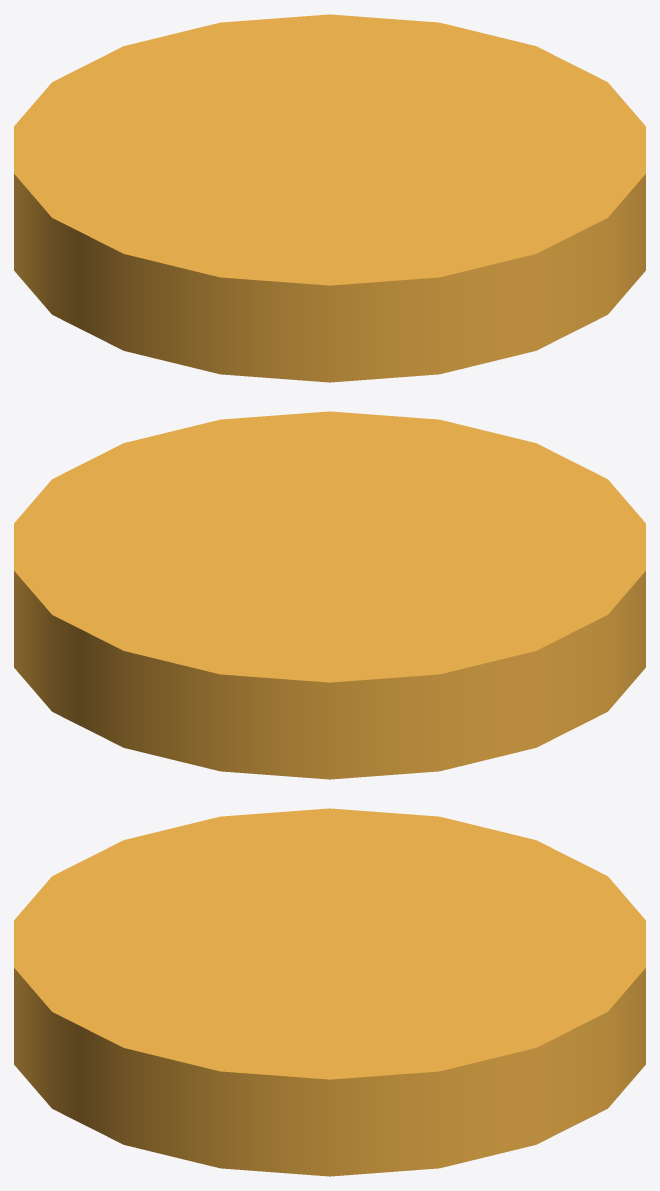
The model's file is Single Gold Coin 001.FBX.
The picture shows the model from 3 angles, top to bottom: view 1: azimuth 30°, elevation 25°; view 2: azimuth 150°, elevation 25°; view 3: azimuth 270°, elevation 25°; orthographic projection.
Visible parts, largest first — view 1: Gold Coin; view 2: Gold Coin; view 3: Gold Coin.
Boxes of the visible parts, left/top/right/bottom form: Gold Coin: left=14, top=14, right=645, bottom=382; Gold Coin: left=14, top=411, right=645, bottom=779; Gold Coin: left=14, top=808, right=645, bottom=1176.
Bounding box in the file's own units: 0.06 × 0.01 × 0.0591.
